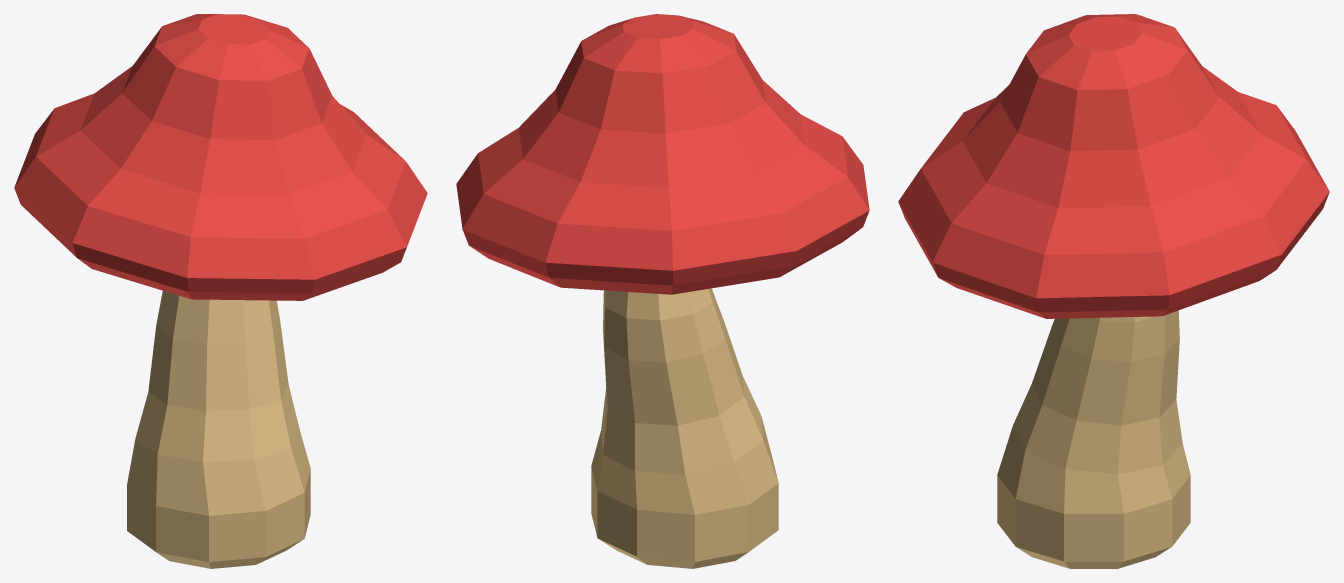
The model's file is mothermushroom.glb.
3 views of the same model, side by side, from view 1: azimuth 30°, elevation 25°; view 2: azimuth 150°, elevation 25°; view 3: azimuth 270°, elevation 25° (orthographic). The views are drawn at different scales.
Parts seen in each view (by area): view 1: Cylinder; view 2: Cylinder; view 3: Cylinder.
Boxes of the visible parts, x1,y1,x2,y2 form: Cylinder: (14,14,427,568); Cylinder: (456,14,869,568); Cylinder: (898,14,1329,568).
Bounding box in the file's own units: 20.33 × 27.78 × 21.
